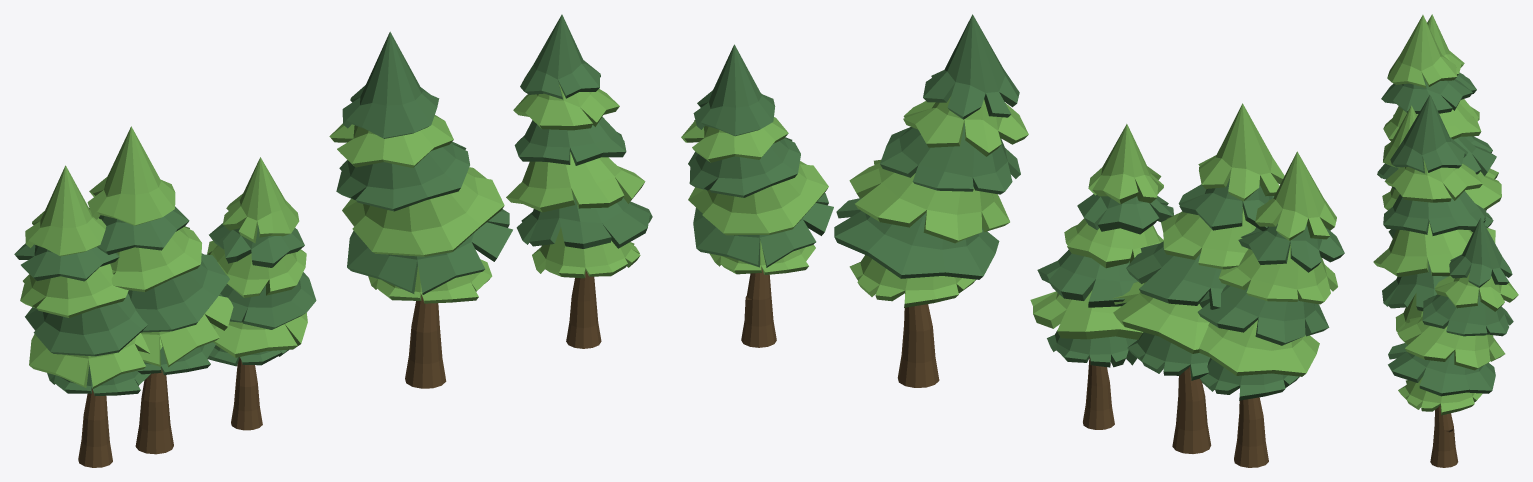
The model's file is Candy_Trees.fbx.
3 renders of one model, left to right at view 1: azimuth 30°, elevation 25°; view 2: azimuth 150°, elevation 25°; view 3: azimuth 270°, elevation 25°, orthographic. The views are drawn at different scales.
Parts seen in each view (by area): view 1: Candy_Tree_1, Candy_Tree_3, Candy_Tree_5, Candy_Tree_6, Candy_Tree_4; view 2: Candy_Tree_1, Candy_Tree_3, Candy_Tree_6, Candy_Tree_5, Candy_Tree_4; view 3: Candy_Tree_3, Candy_Tree_1, Candy_Tree_5, Candy_Tree_4, Candy_Tree_6.
Boxes of the visible parts, box(x1,y1,x2,y2) form: Candy_Tree_1: box(329, 31, 512, 388); Candy_Tree_3: box(506, 14, 652, 348); Candy_Tree_5: box(87, 126, 233, 454); Candy_Tree_6: box(14, 165, 162, 467); Candy_Tree_4: box(207, 157, 316, 430); Candy_Tree_1: box(834, 14, 1028, 387); Candy_Tree_3: box(681, 44, 833, 347); Candy_Tree_6: box(1197, 151, 1344, 467); Candy_Tree_5: box(1113, 103, 1284, 453); Candy_Tree_4: box(1030, 124, 1173, 429); Candy_Tree_3: box(1388, 217, 1518, 467); Candy_Tree_1: box(1373, 95, 1485, 332); Candy_Tree_5: box(1377, 15, 1501, 227); Candy_Tree_4: box(1377, 105, 1495, 243); Candy_Tree_6: box(1393, 14, 1498, 210).
Bounding box in the file's own units: 13.15 × 7.3 × 3.33.
